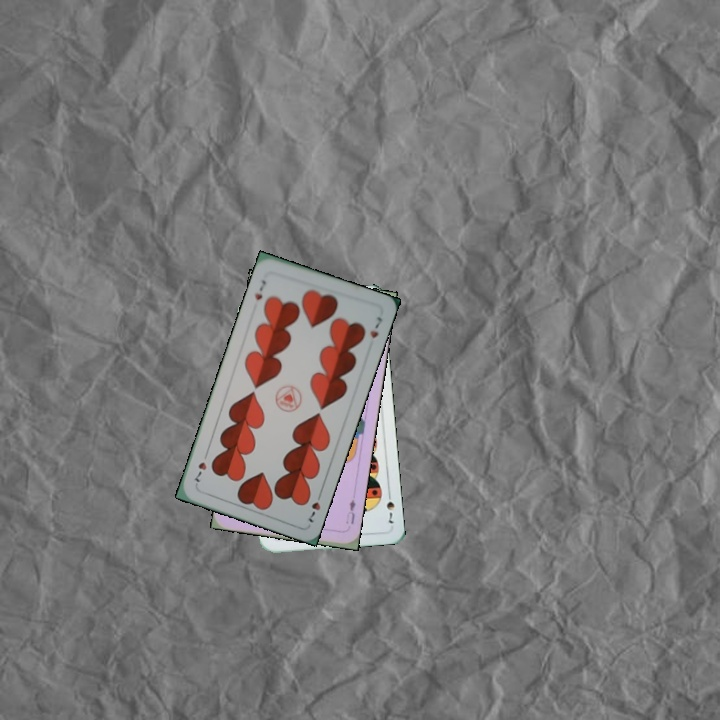EU: (341, 496, 358, 527)
H7: (304, 487, 324, 525), (251, 276, 269, 303)
S7: (382, 487, 397, 526)
